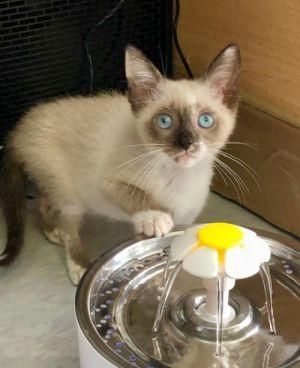siamese: (116, 34, 252, 176)
